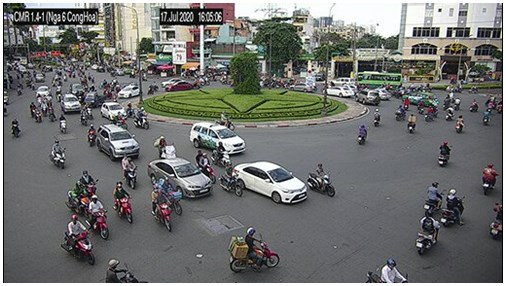xe_buyt: (355, 70, 402, 87)
xe_dap: (157, 135, 173, 158)
xe_hoi: (232, 161, 307, 205), (147, 156, 212, 199), (190, 123, 244, 155), (96, 123, 140, 161), (400, 91, 438, 105), (101, 102, 128, 120), (355, 89, 380, 106), (60, 93, 81, 113), (322, 86, 352, 98), (164, 81, 193, 91), (118, 86, 140, 98), (290, 83, 315, 93), (371, 87, 390, 99), (330, 77, 355, 86), (35, 85, 51, 98), (161, 78, 183, 87), (69, 84, 85, 95)
xe_may: (228, 226, 280, 271), (63, 215, 95, 265), (105, 257, 148, 284), (365, 260, 410, 283), (309, 161, 334, 198), (113, 181, 135, 223), (152, 186, 172, 232), (443, 188, 465, 228), (67, 181, 91, 216), (90, 194, 108, 239), (416, 211, 436, 250), (162, 178, 182, 216), (422, 181, 442, 216), (490, 198, 503, 239), (481, 162, 496, 195), (48, 139, 65, 168), (81, 169, 97, 197), (214, 111, 236, 129), (438, 139, 450, 165), (356, 123, 369, 146), (133, 110, 147, 127), (57, 111, 67, 133), (394, 105, 406, 122), (484, 93, 497, 108), (87, 122, 95, 146), (373, 108, 383, 127), (10, 116, 19, 137), (409, 113, 417, 133), (79, 106, 88, 123), (444, 105, 454, 120), (425, 106, 434, 122), (29, 101, 38, 117), (456, 114, 463, 134), (483, 107, 490, 127), (48, 104, 55, 123), (468, 97, 477, 111), (34, 107, 41, 124), (497, 99, 503, 117), (145, 83, 154, 95), (36, 72, 45, 84), (86, 102, 93, 117), (489, 98, 497, 108), (16, 80, 22, 93), (127, 101, 132, 116), (454, 97, 460, 109), (443, 93, 449, 104), (99, 80, 107, 86)
